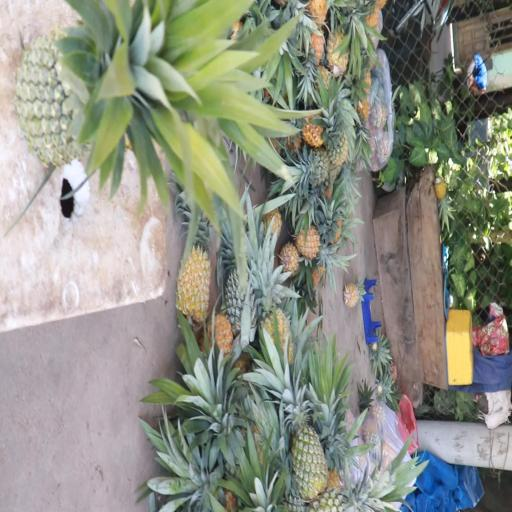------------------------------: (13, 3, 249, 164), (272, 365, 328, 499)
Pineapple - v8 v1: (175, 201, 215, 328), (252, 262, 294, 364), (293, 215, 340, 267), (292, 101, 329, 147)
